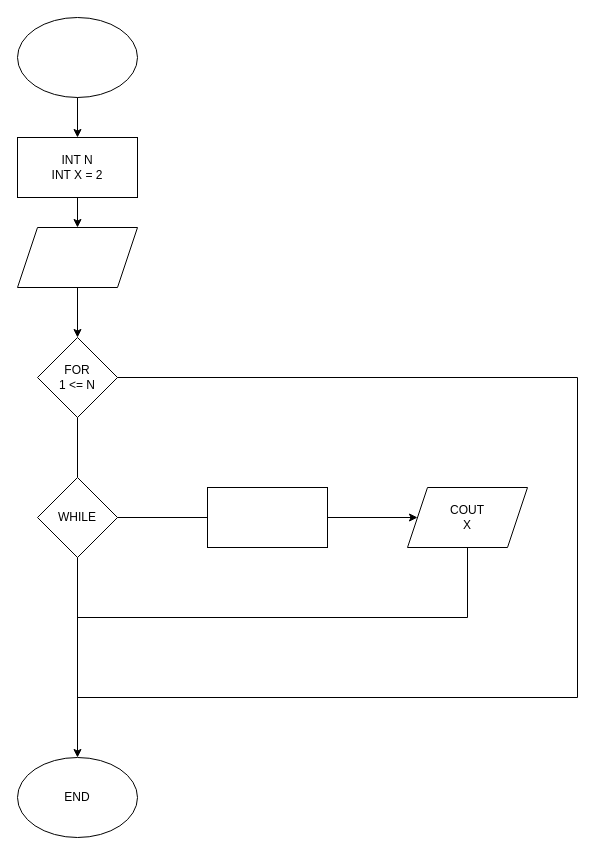
This 596x855 diagram has some shape labels left out. The shapes that lost their labels are listed below. From the top down, each one's centre as x and y in pixels, then its label:
point (77, 57): START
point (77, 257): CIN N
point (267, 517): X % 2 == 0 1 + 1
